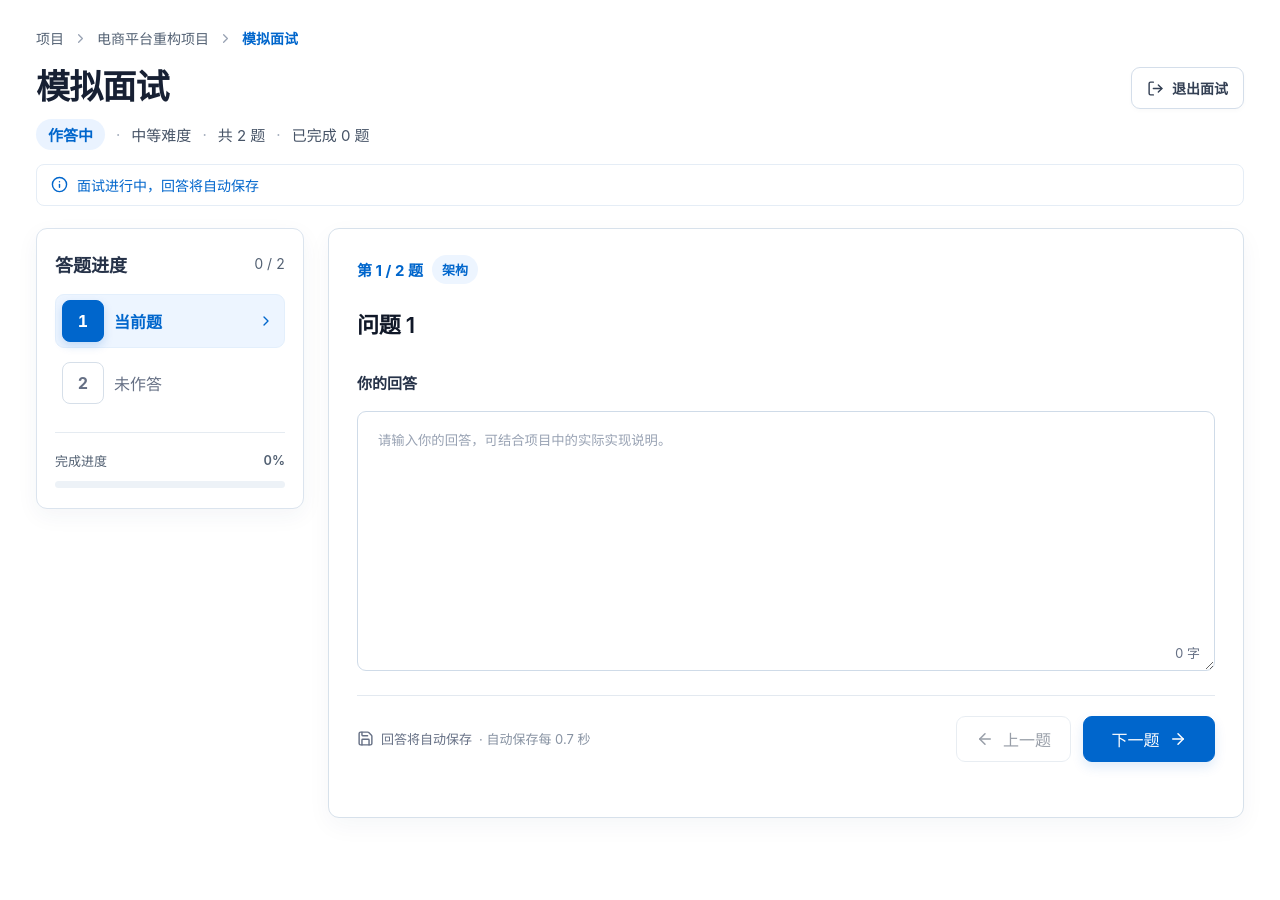
Test: InterviewSessionClient › saves the current draft immediately before moving to another question
The image size is (1280, 900).
Type "Redis 用于异步任务状态管理" into the text box labelled "你的回答" at (786, 541), box left=357, top=411, right=1215, bottom=671
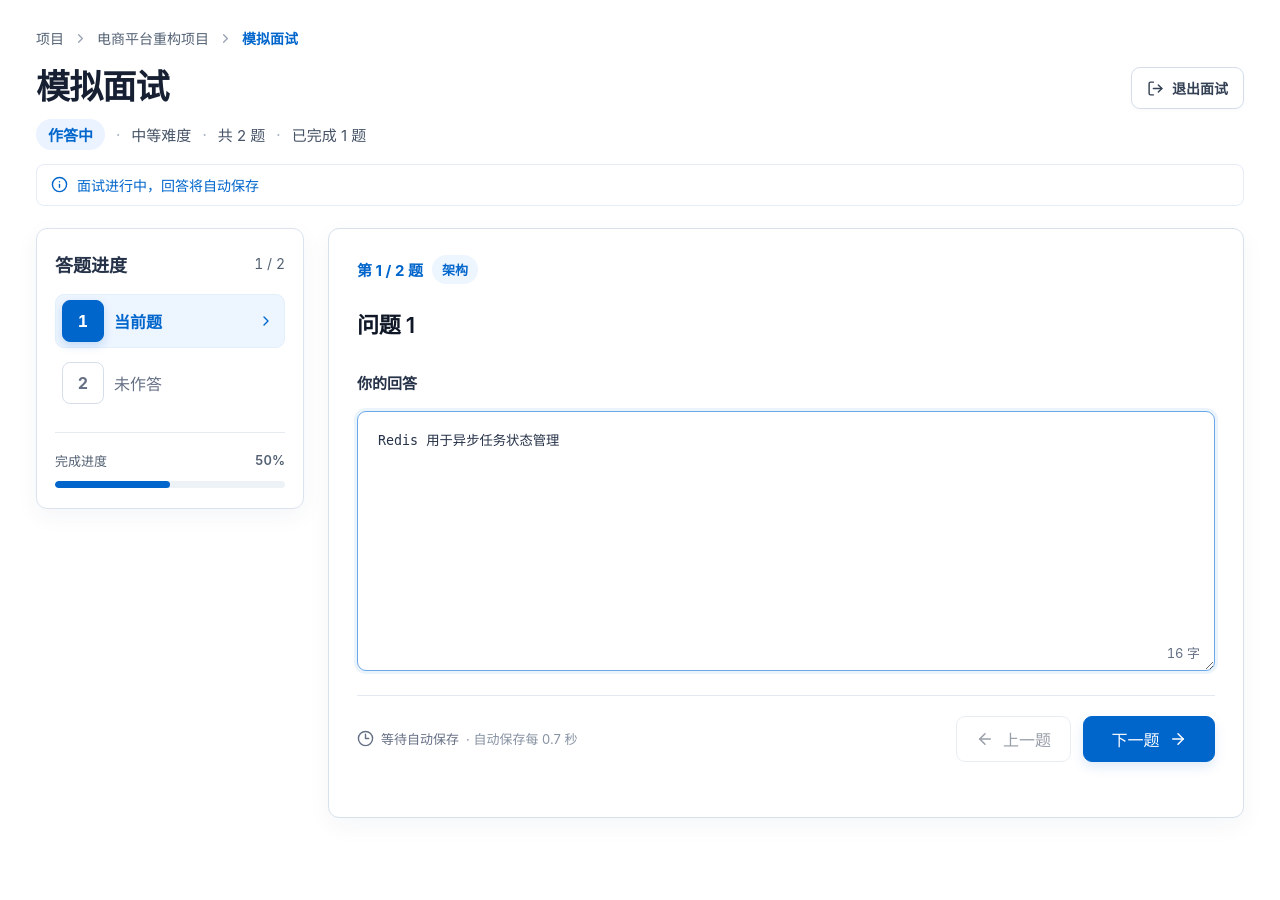
Click the button "下一题" at (1149, 739), box left=1083, top=716, right=1215, bottom=762
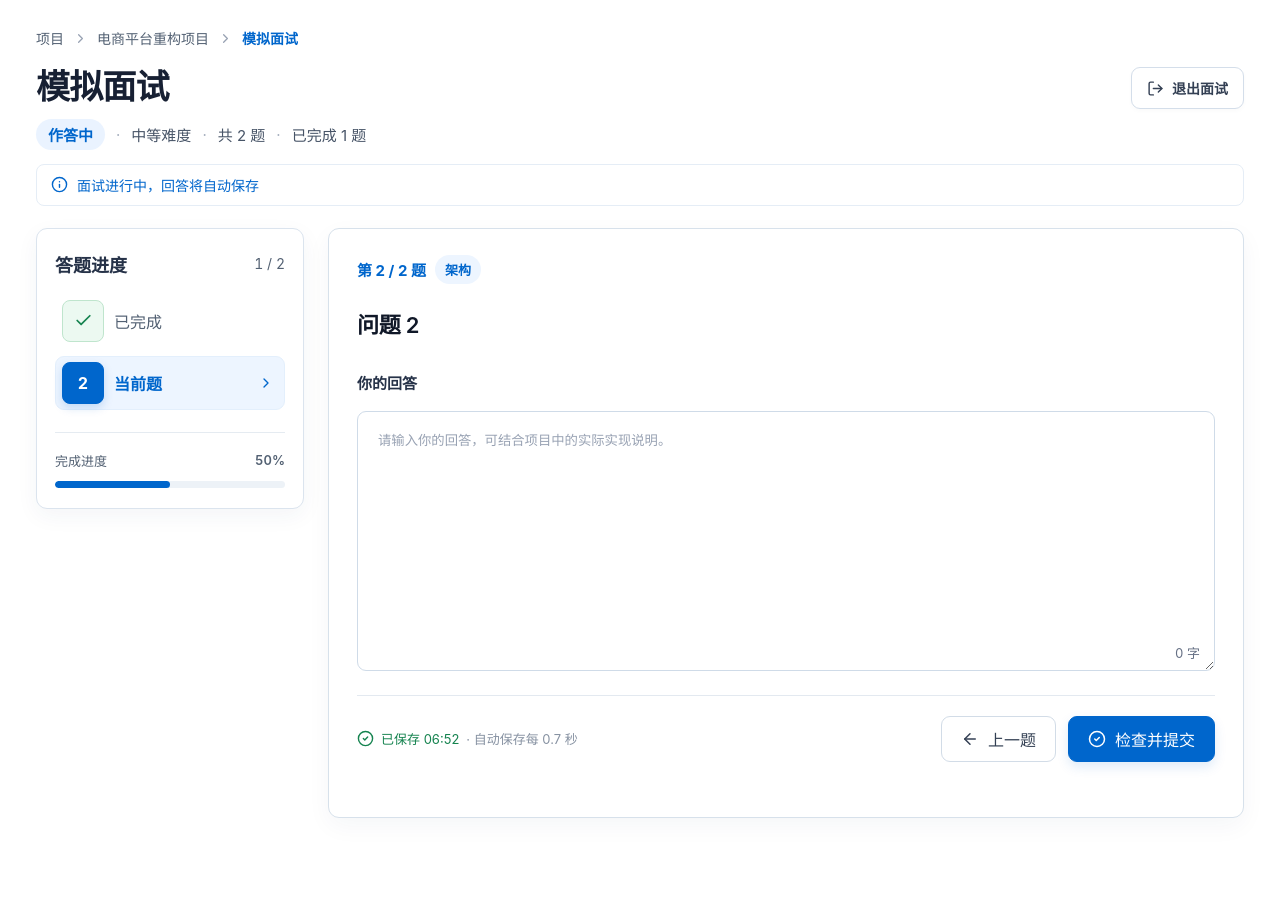
Now the text "第 2 / 2 题" is shown, box left=357, top=259, right=426, bottom=280
Now the text "已保存 06:52 · 自动保存每 0.7 秒" is shown, box left=357, top=730, right=578, bottom=747
